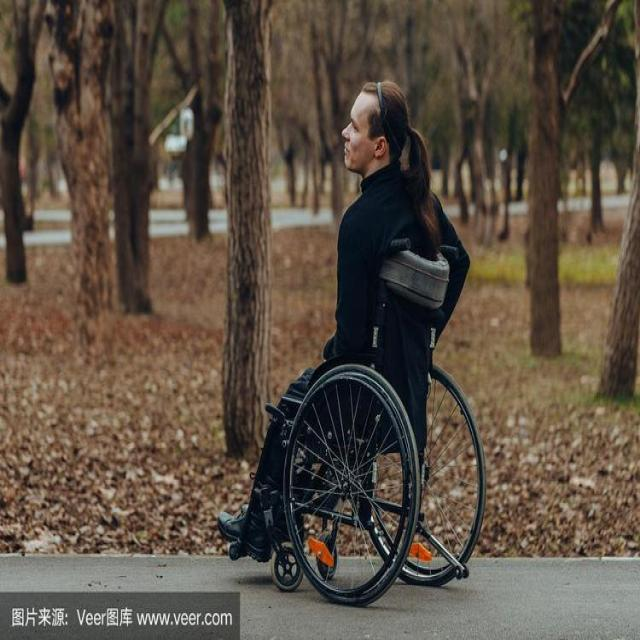wheelchairs: (219, 235, 494, 604)
